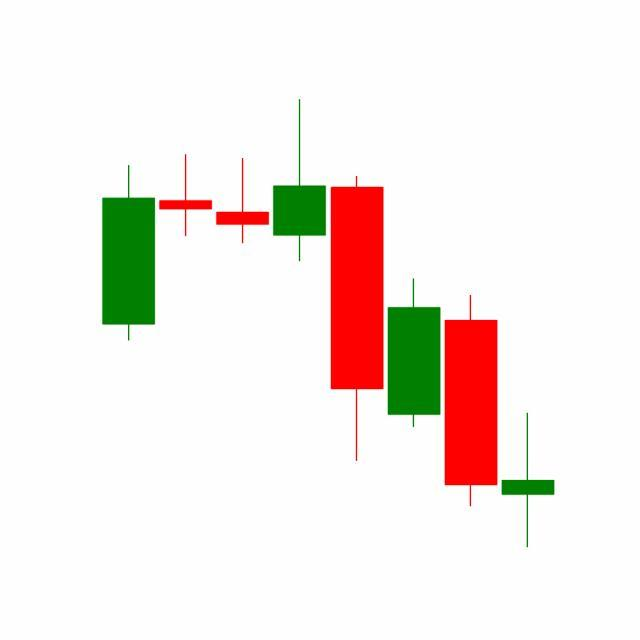Hikkake Pattern: (214, 99, 501, 512)
